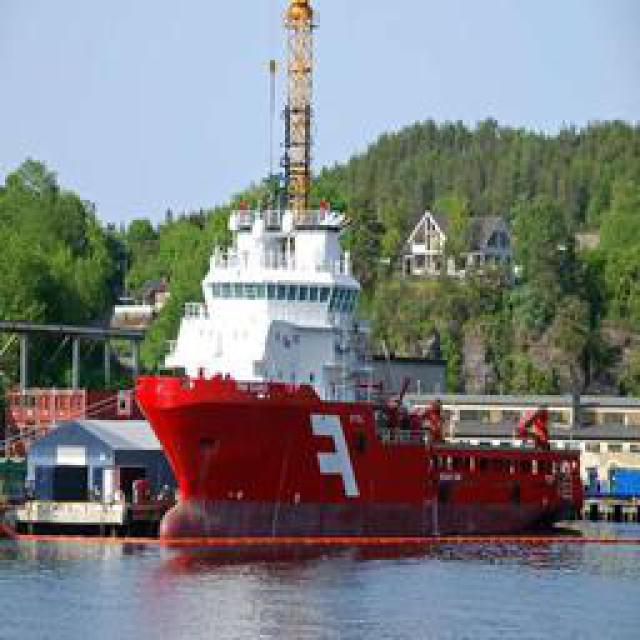Ship: (131, 122, 590, 555)
